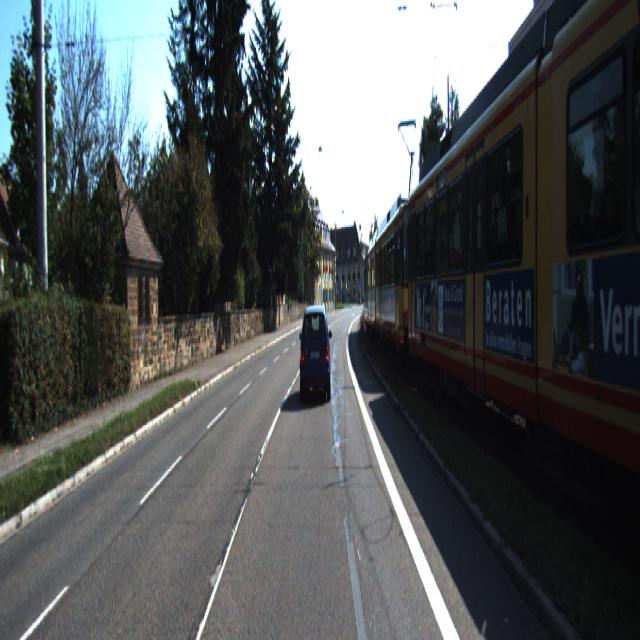Car: (408, 10, 626, 492), (534, 0, 640, 579), (374, 185, 439, 373), (367, 228, 398, 344), (300, 301, 332, 404), (363, 242, 385, 334)
